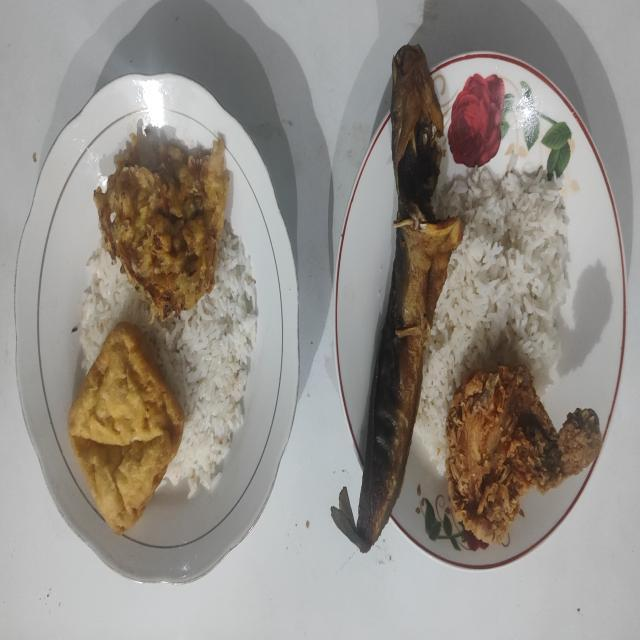nasi_putih: (79, 221, 258, 499), (417, 166, 570, 474)
tahu_goreng: (68, 322, 184, 534)
